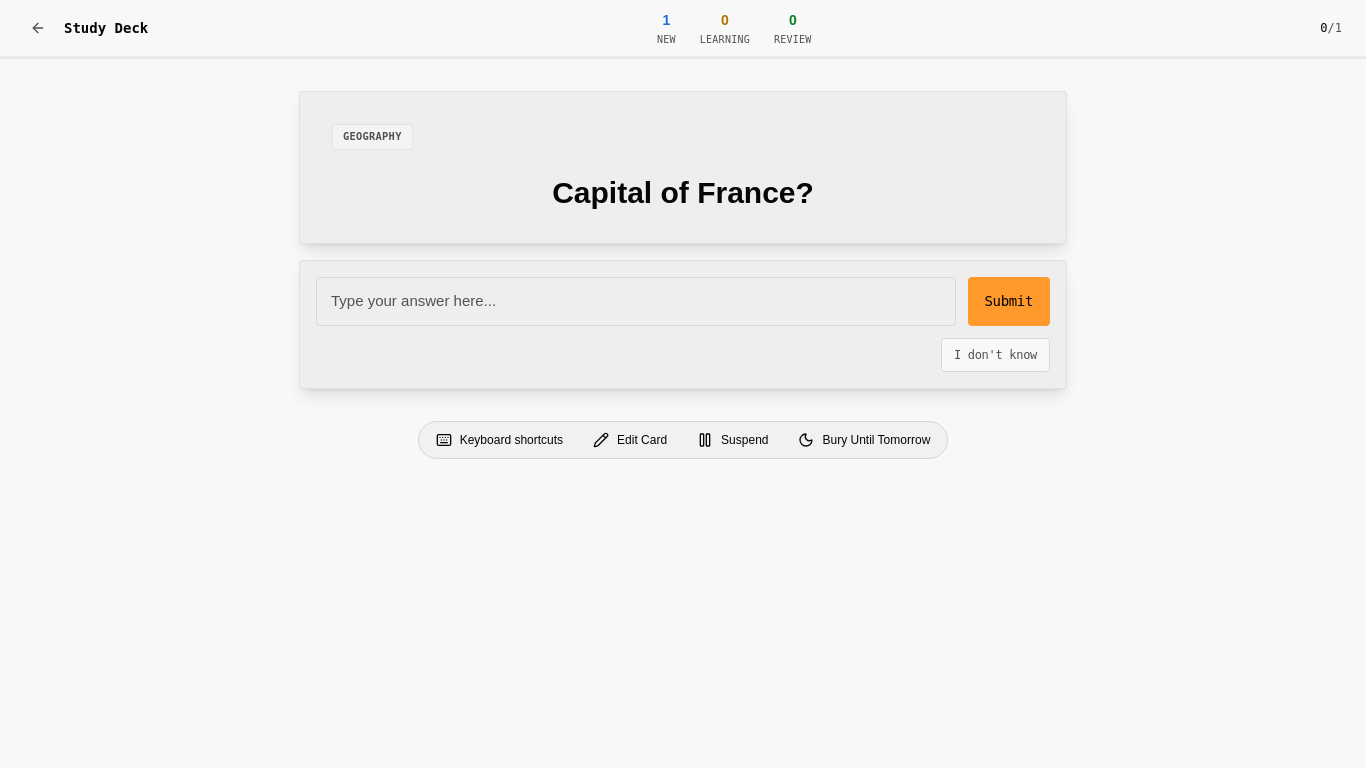
Test: StudyScreen › reveals typed-answer correctness and submits review payload
Check: the heading "Capital of France?" is shown, box [552, 174, 814, 211]
Step 1. Type "Paris" into the field labelled "your answer" → (636, 301), box [316, 277, 956, 326]
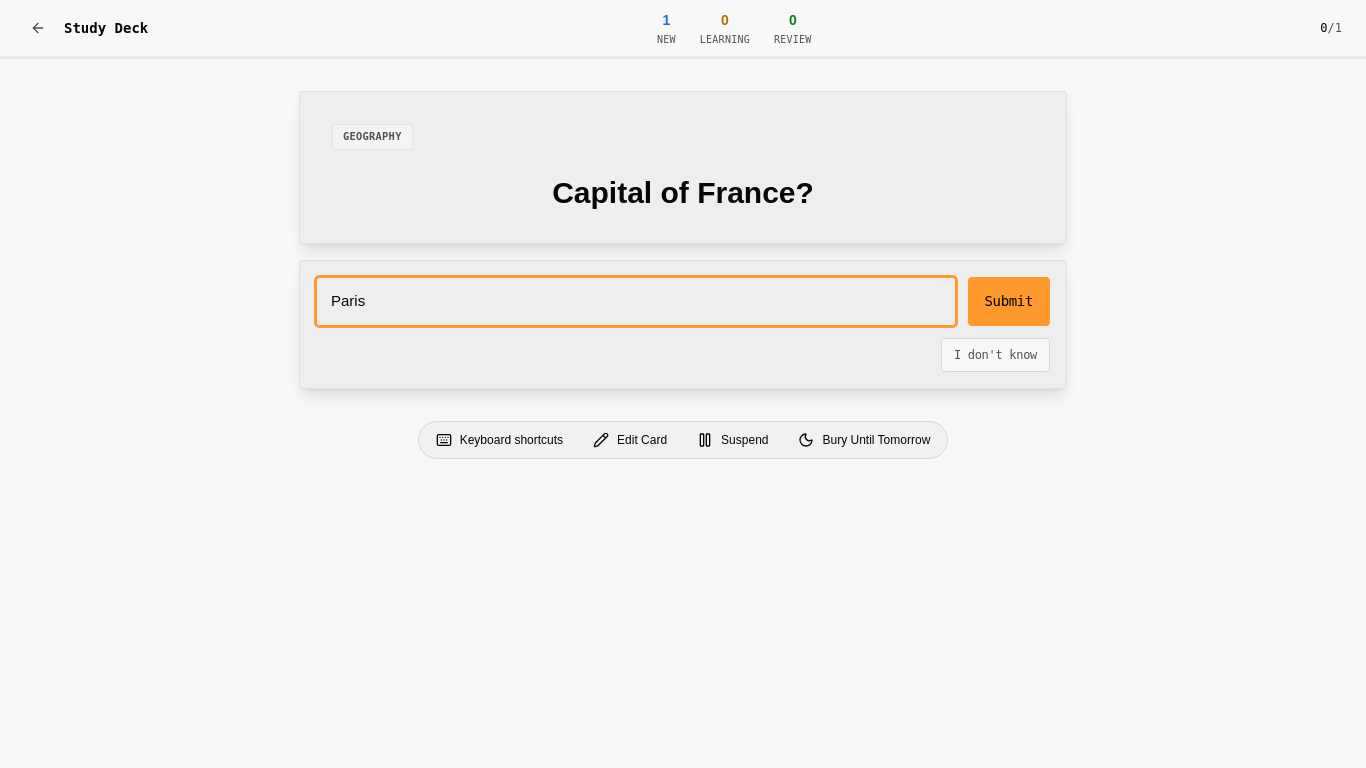
Step 2. Click the button "Submit" → (1009, 301), box [968, 277, 1050, 326]
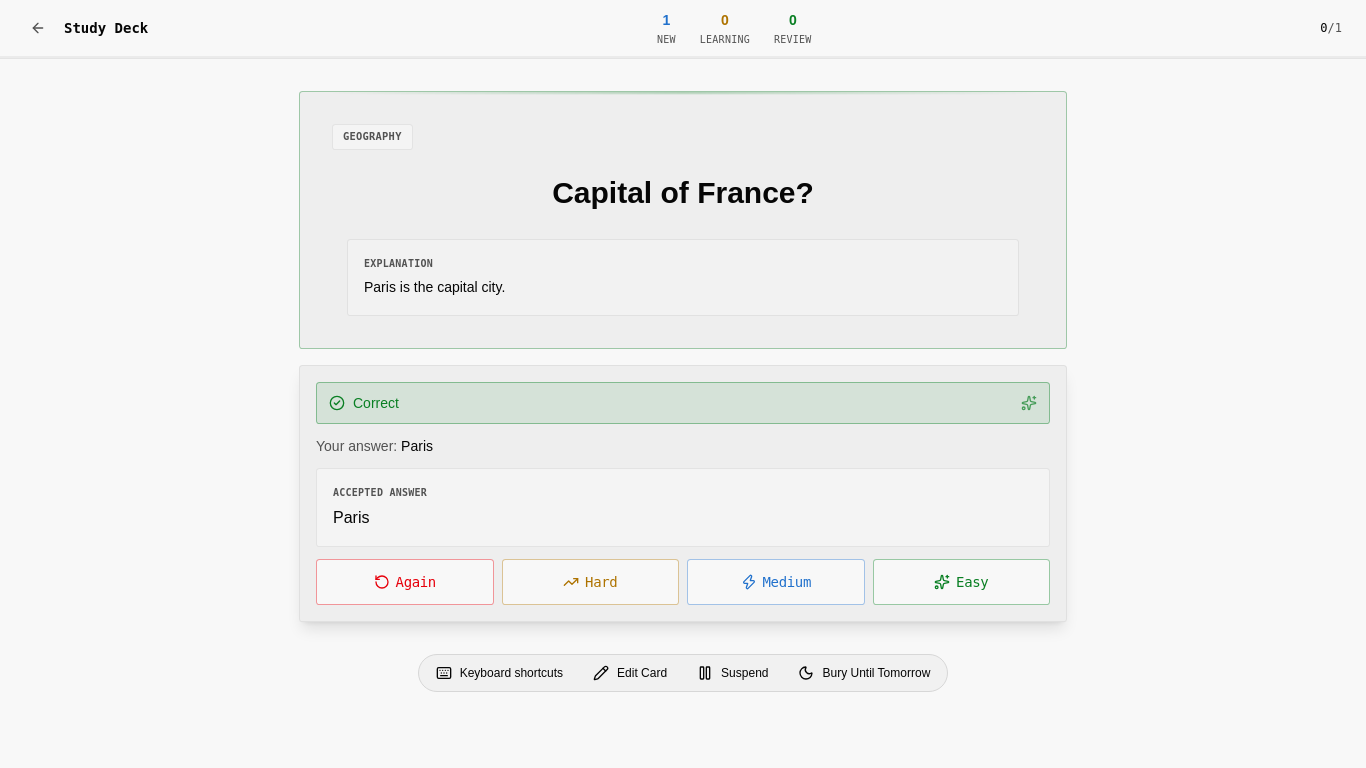
Check: the text "Correct" is shown, box [353, 393, 399, 413]
Check: the text "Accepted answer" is shown, box [333, 487, 427, 498]
Step 3. Click the button "Medium" → (776, 582), box [687, 559, 864, 605]
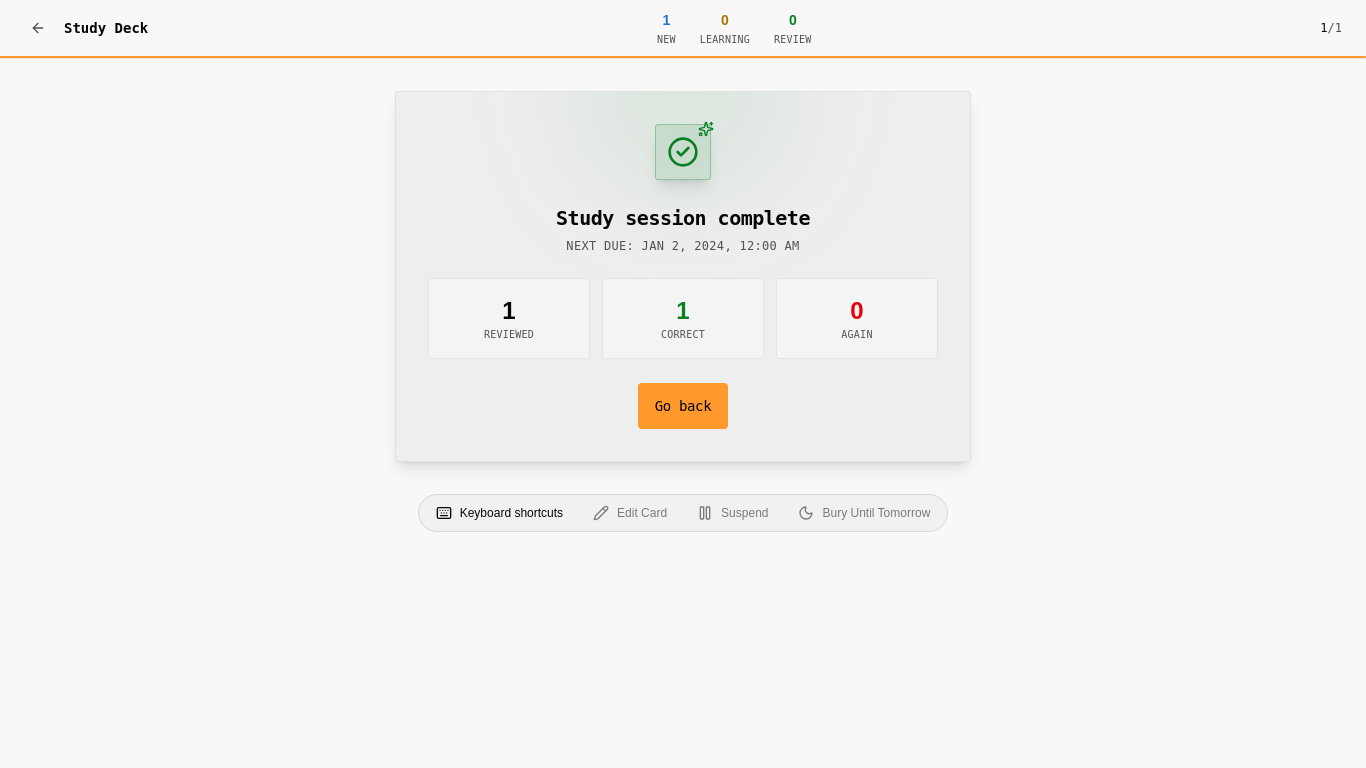
Check: the heading "Study session complete" is shown, box [556, 204, 810, 232]
